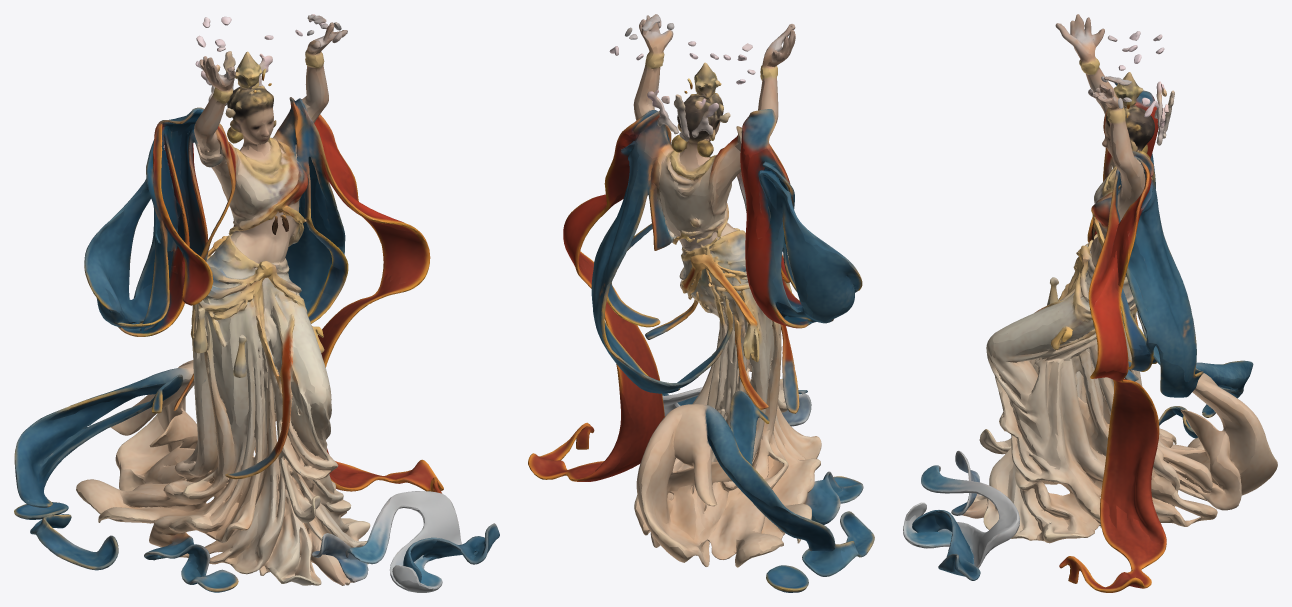
Rendered from actor-feitian-2.glb.
The picture shows the model from 3 angles, left to right: view 1: azimuth 30°, elevation 25°; view 2: azimuth 150°, elevation 25°; view 3: azimuth 270°, elevation 25°; orthographic projection. The views are drawn at different scales.
Parts seen in each view (by area): view 1: world; view 2: world; view 3: world.
Part boxes in pixels (left/top/right/bottom): world: left=14, top=14, right=499, bottom=592; world: left=528, top=14, right=874, bottom=592; world: left=903, top=14, right=1277, bottom=592.
Size of the model in its own units: 0.7707 by 1 by 0.7256.
1 material, 1 textured.
